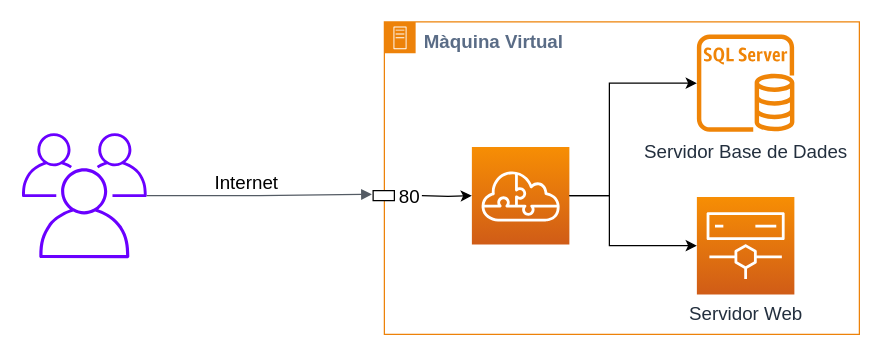
Some shapes in this 881 by 356 pixel diagram are drawn without their labels. Here are the shapes that lost their labels. From the top down, the centre of each, then its label:
At (84,195): "Usuaris".
At (520,195): "Wordpress".
